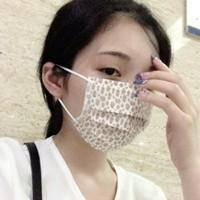face_mask: (74, 51, 155, 149)
